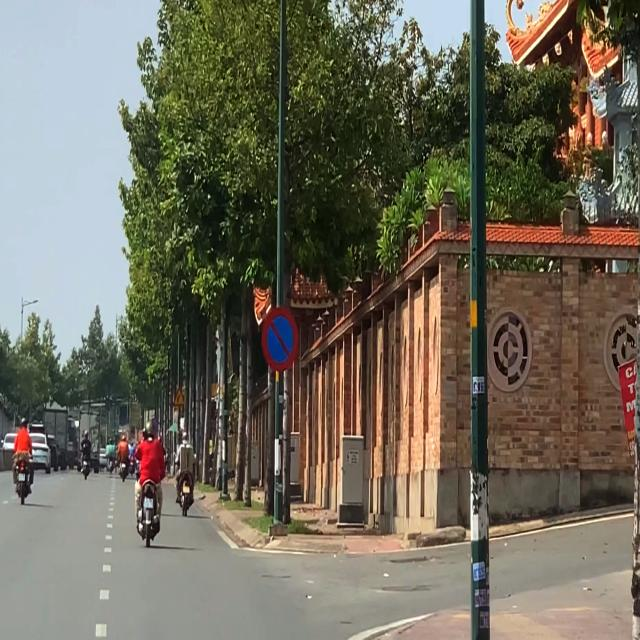Cam do: (262, 306, 299, 372)
Nguy hiem: (174, 387, 185, 406)
